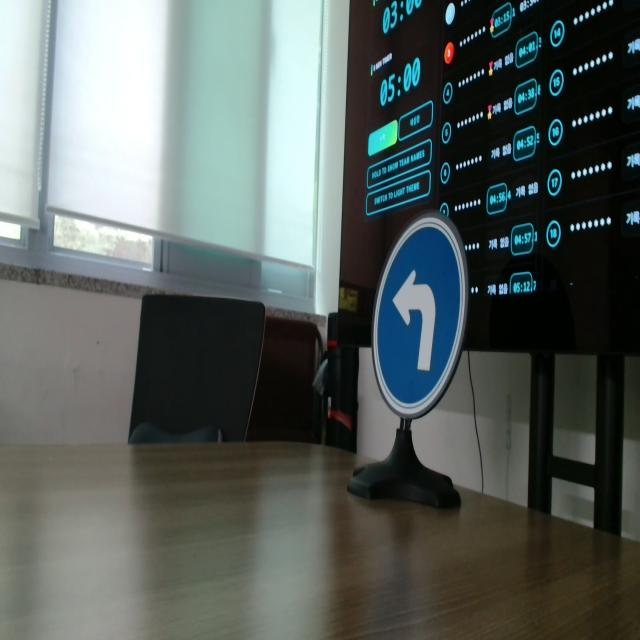left_direction: (362, 199, 473, 418)
